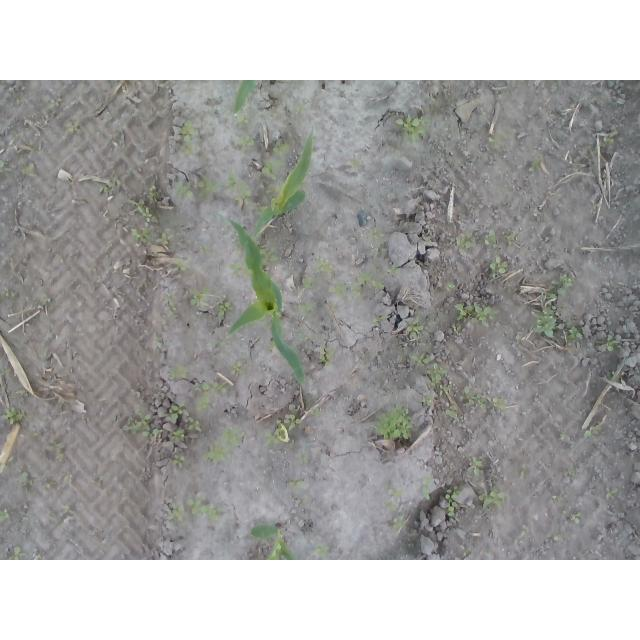Maize: (223, 215, 305, 389), (253, 124, 317, 237), (251, 518, 296, 560), (234, 81, 264, 116)
Weeds: (198, 169, 252, 201), (127, 176, 161, 225), (166, 398, 202, 443), (373, 404, 416, 441), (203, 426, 241, 463), (264, 412, 301, 448), (454, 300, 498, 328), (396, 112, 433, 144), (185, 494, 220, 526), (529, 304, 560, 339), (463, 389, 508, 411), (125, 414, 163, 439), (544, 275, 576, 302), (261, 157, 288, 185), (383, 499, 407, 529), (478, 487, 506, 511), (444, 485, 464, 518), (426, 362, 450, 387), (327, 280, 361, 297), (179, 118, 194, 155), (1, 406, 28, 426), (359, 271, 386, 290), (162, 290, 178, 321), (194, 383, 210, 413), (48, 438, 67, 462), (129, 225, 152, 244), (408, 350, 435, 366), (484, 131, 508, 149), (234, 135, 258, 153), (455, 229, 477, 248), (566, 320, 584, 343), (318, 345, 336, 368), (173, 181, 195, 199), (167, 363, 189, 381), (420, 471, 433, 501), (262, 247, 282, 266), (190, 287, 210, 306), (165, 501, 184, 521), (598, 334, 619, 352), (406, 319, 427, 337), (311, 542, 332, 560), (490, 255, 509, 274), (18, 160, 39, 177), (372, 263, 401, 275), (468, 455, 484, 476), (445, 406, 464, 423), (286, 478, 306, 494), (175, 254, 193, 271), (8, 544, 26, 561), (584, 422, 603, 438), (484, 230, 498, 250), (64, 120, 80, 137), (234, 112, 251, 128), (316, 256, 333, 272), (367, 227, 386, 241), (48, 96, 64, 112), (217, 302, 233, 318), (16, 472, 33, 487), (273, 141, 291, 155), (303, 276, 322, 289), (229, 360, 244, 376), (210, 383, 231, 394), (297, 451, 312, 466), (155, 230, 169, 246), (570, 511, 583, 528), (371, 313, 389, 325), (438, 384, 452, 399), (171, 455, 190, 466), (299, 302, 315, 315), (504, 224, 516, 241), (385, 485, 403, 496), (529, 157, 541, 173), (109, 175, 119, 194), (294, 329, 306, 344), (0, 287, 16, 298), (568, 464, 578, 481), (95, 181, 109, 193), (603, 132, 617, 144), (0, 159, 8, 177), (447, 279, 458, 292), (1, 510, 12, 523), (606, 487, 619, 498), (231, 260, 242, 272), (293, 103, 305, 113), (155, 336, 162, 353), (421, 396, 434, 405), (199, 245, 210, 255), (63, 503, 74, 513), (311, 406, 321, 416), (63, 472, 74, 481), (607, 370, 616, 381), (352, 160, 361, 169), (33, 553, 44, 560), (464, 548, 472, 557), (559, 431, 566, 440)
